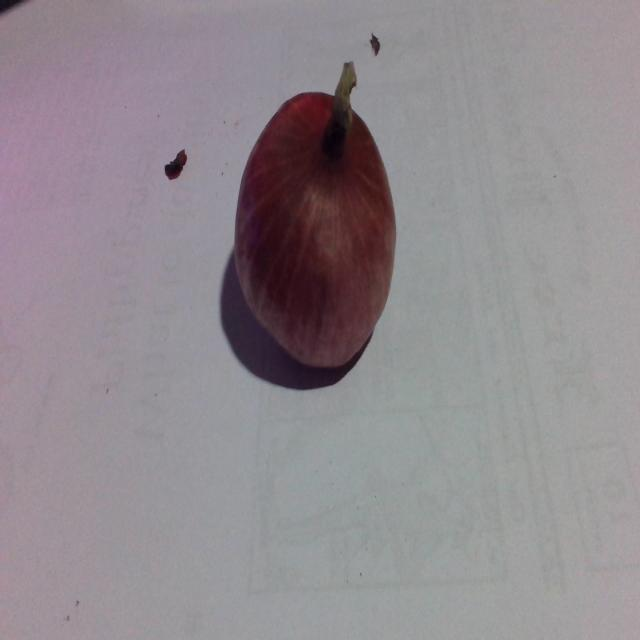onion: (233, 60, 401, 380)
